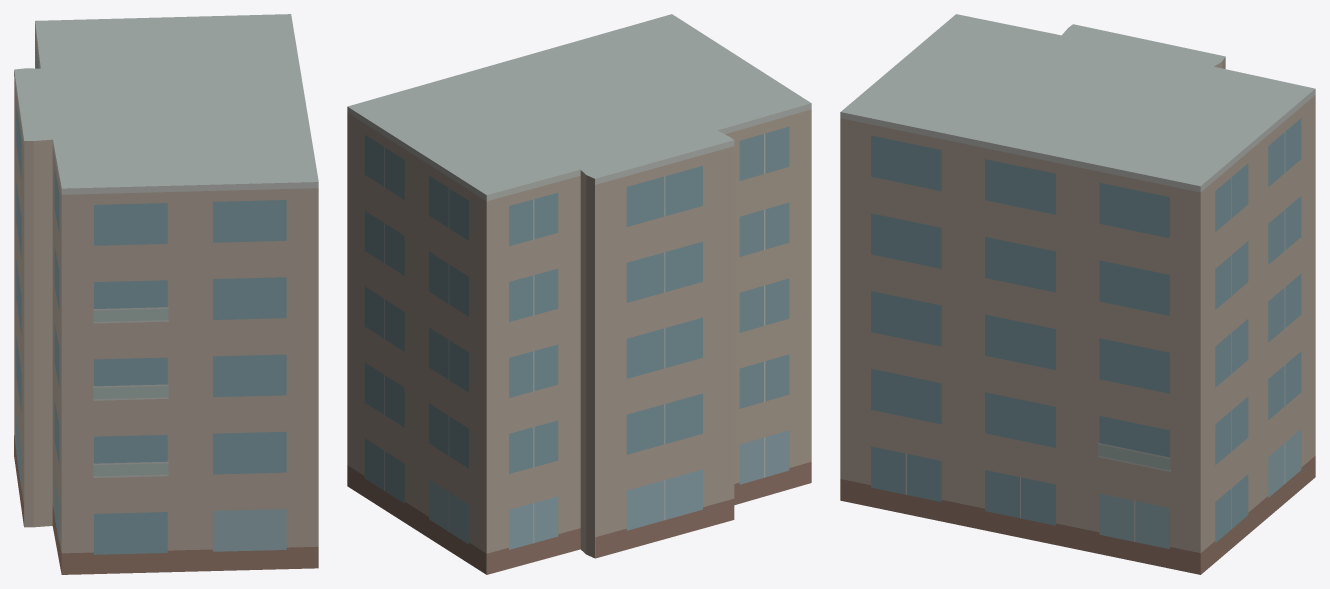
Rendered from survey-upis-32888380.glb.
3 views of the same model, side by side, from view 1: azimuth 30°, elevation 25°; view 2: azimuth 150°, elevation 25°; view 3: azimuth 270°, elevation 25° (orthographic). The views are drawn at different scales.
Visible parts, largest first — view 1: survey-upis-32888380.tmp; view 2: survey-upis-32888380.tmp; view 3: survey-upis-32888380.tmp.
Part boxes in pixels (box(x1,y1,x2,y2)): survey-upis-32888380.tmp: box(14, 14, 318, 574); survey-upis-32888380.tmp: box(347, 14, 811, 574); survey-upis-32888380.tmp: box(840, 14, 1315, 574).
Bounding box in the file's own units: 14.56 × 15.3 × 16.96.
